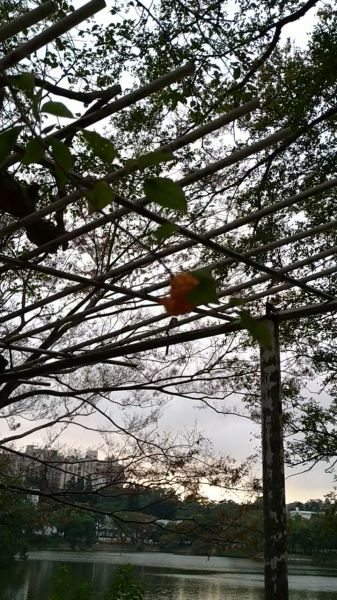eggs: (158, 268, 207, 320)
